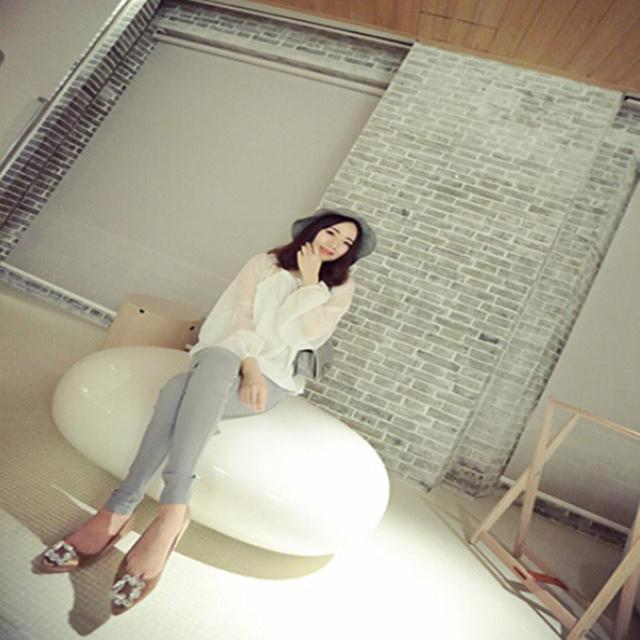long-sleeve-top: (217, 249, 365, 382)
trousers: (156, 352, 258, 520)
